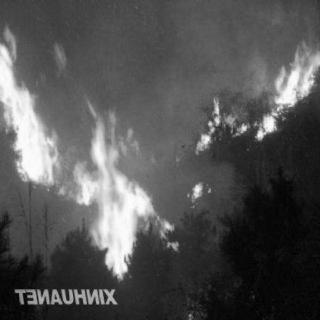Fire: (5, 26, 219, 278), (188, 37, 320, 157)
